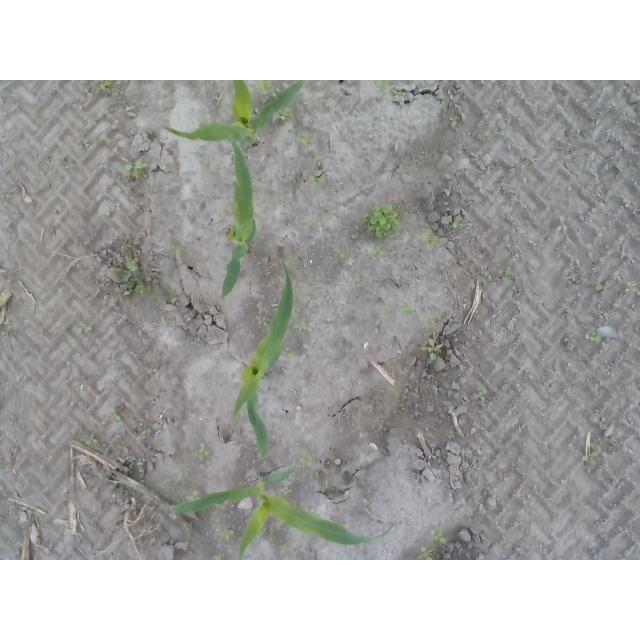Maize: (168, 465, 396, 560), (233, 259, 295, 461), (162, 80, 305, 145), (219, 131, 257, 297)
Weeds: (109, 244, 148, 296), (362, 200, 402, 240), (417, 227, 439, 251), (424, 338, 444, 362), (127, 162, 145, 181), (257, 80, 275, 97), (431, 529, 447, 546), (581, 453, 599, 467), (401, 303, 419, 317), (418, 545, 434, 560), (308, 170, 324, 185), (299, 452, 313, 469), (584, 329, 601, 343), (295, 132, 313, 145), (193, 448, 211, 461), (95, 81, 113, 94), (255, 314, 270, 328), (556, 215, 569, 231), (594, 280, 607, 295), (625, 282, 640, 295), (106, 408, 121, 421), (184, 489, 200, 501), (76, 320, 90, 333), (369, 243, 384, 255), (292, 321, 307, 332), (86, 434, 98, 447), (424, 314, 436, 327), (378, 80, 391, 92), (223, 529, 235, 542), (279, 486, 294, 496), (477, 386, 488, 399), (615, 159, 625, 173), (211, 552, 228, 560), (498, 271, 510, 281), (279, 543, 289, 554), (280, 108, 291, 118), (356, 280, 365, 288), (393, 90, 402, 97)
